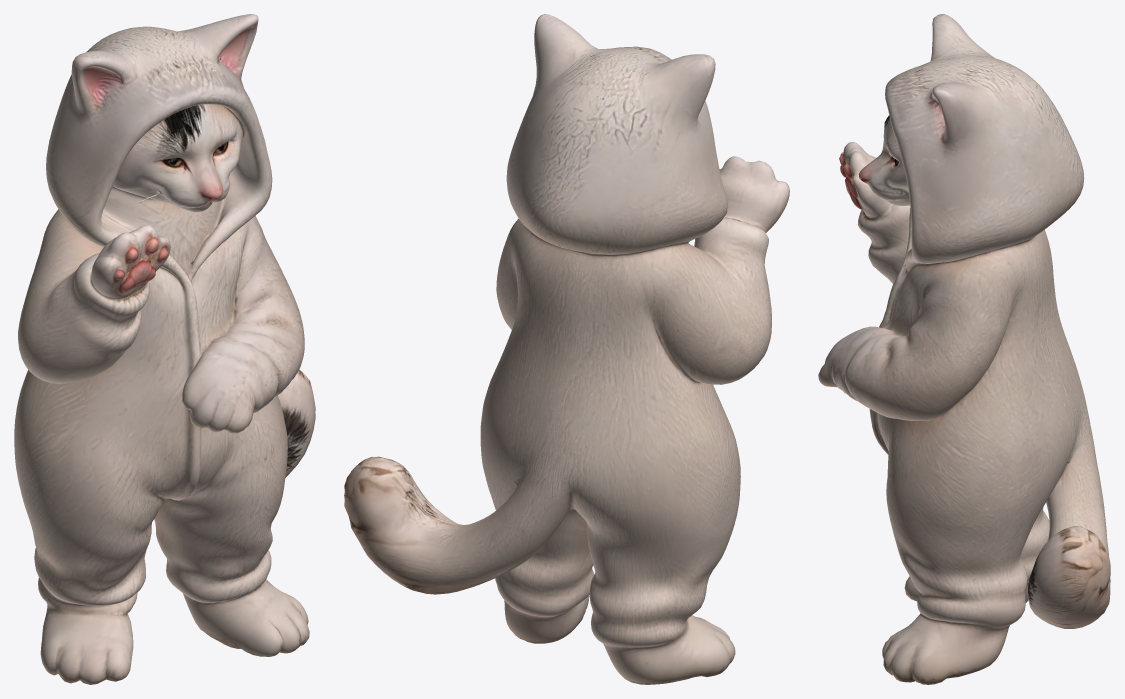
The model's file is miaobaibai.glb.
3 views of the same model, side by side, from view 1: azimuth 30°, elevation 25°; view 2: azimuth 150°, elevation 25°; view 3: azimuth 270°, elevation 25° (orthographic). The views are drawn at different scales.
Parts seen in each view (by area): view 1: model; view 2: model; view 3: model.
Boxes of the visible parts, x1,y1,x2,y2 form: model: [14, 14, 315, 684]; model: [344, 14, 789, 684]; model: [818, 14, 1110, 684].
Size of the model in its own units: 1.13 by 1.9 by 0.8688.
Materials: 1 (1 with a texture image).
